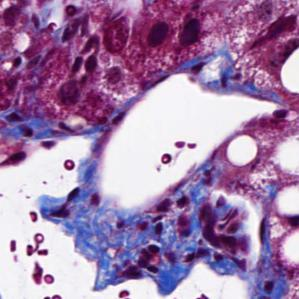inflammation: (148, 8, 220, 66), (47, 60, 109, 124)
